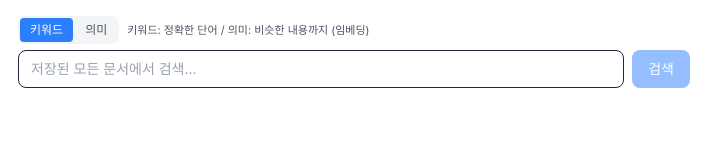
Scenario: GlobalSearch › 의미 모드 + 임베딩 모델 없음 → 안내 노출, 결과 없음
This screenshot has width=707, height=160.
Click the button "의미" at (96, 30), box [75, 18, 117, 42]
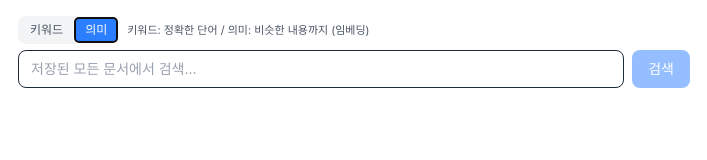
Type "질의어" into the field named "문서 검색" at (321, 69), box [18, 50, 624, 88]
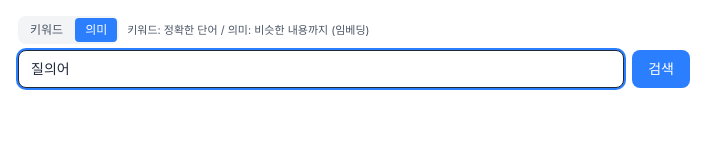
Click the button "검색" at (661, 69), box [632, 50, 690, 88]
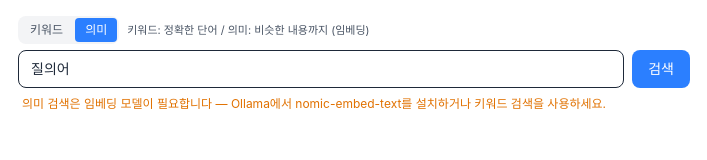
Check: the text "의미 검색은 임베딩 모델이 필요합니다 — Ollama에서 nomic-embed-text를 설치하거나 키워드 검색을 사용하세요." is shown, box [18, 96, 690, 112]
